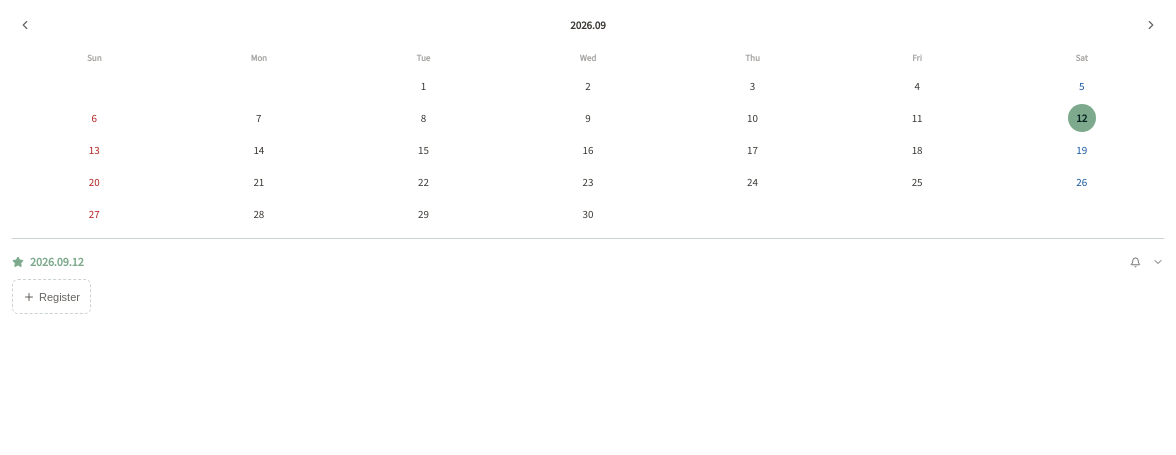
Test: DatesPanel — 노트 id 하나로 자족한다 › '+' 로 행을 만들면 그 행이 자동으로 펼쳐진다(justAddedId)
Click the button with test id "date-add-row". click: (52, 296)
box: [12, 279, 91, 314]
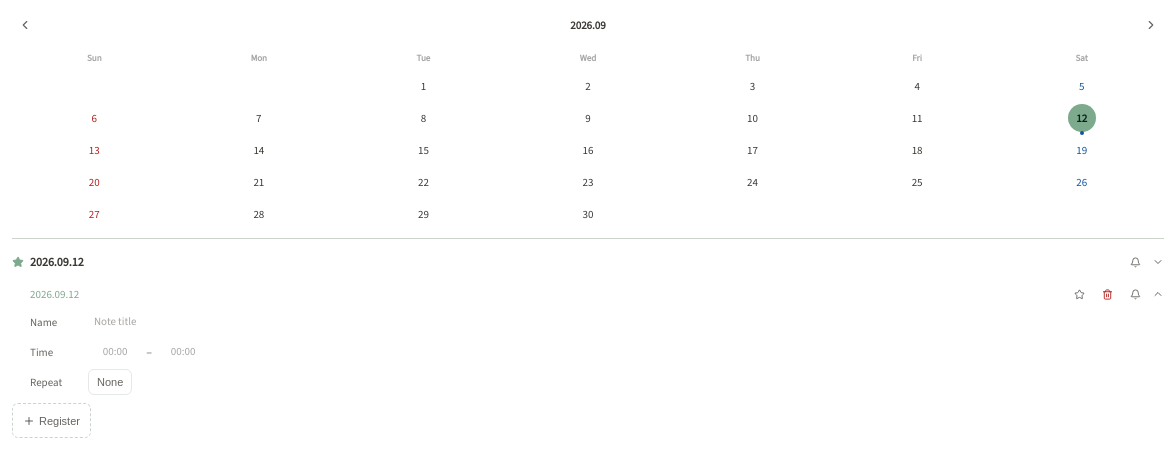
Expected: the option with test id "note-date-row-new1" is shown, [12, 279, 1164, 309]
Expected: the element with test id "note-date-body-new1" is shown, [12, 309, 1164, 401]
